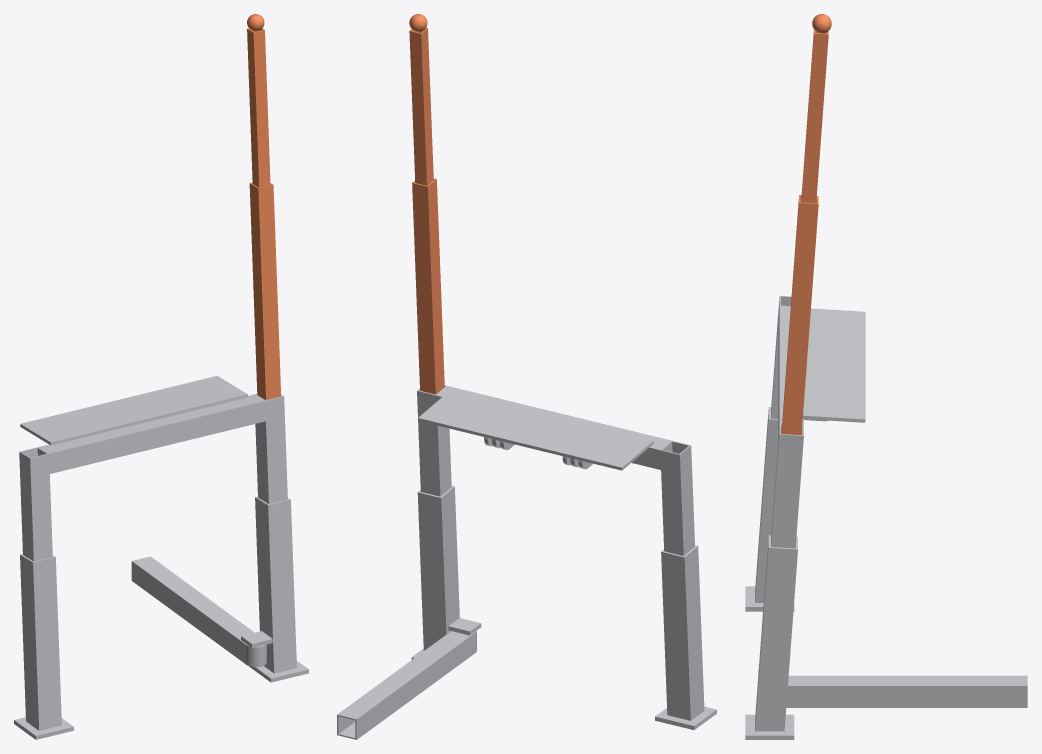
The model's file is center_stand_v5_deployed.glb.
The picture shows the model from 3 angles, left to right: view 1: azimuth 30°, elevation 25°; view 2: azimuth 150°, elevation 25°; view 3: azimuth 270°, elevation 25°; orthographic projection. The views are drawn at different scales.
Visible parts, largest first — view 1: frame, handle; view 2: frame, handle; view 3: frame, handle.
Boxes of the visible parts, x1,y1,x2,y2 form: frame: [14, 375, 308, 739]; handle: [247, 14, 281, 399]; frame: [337, 385, 716, 739]; handle: [409, 14, 444, 394]; frame: [745, 295, 1027, 739]; handle: [781, 14, 831, 435].
Bounding box in the file's own units: 0.4572 × 1.02 × 0.3657.
